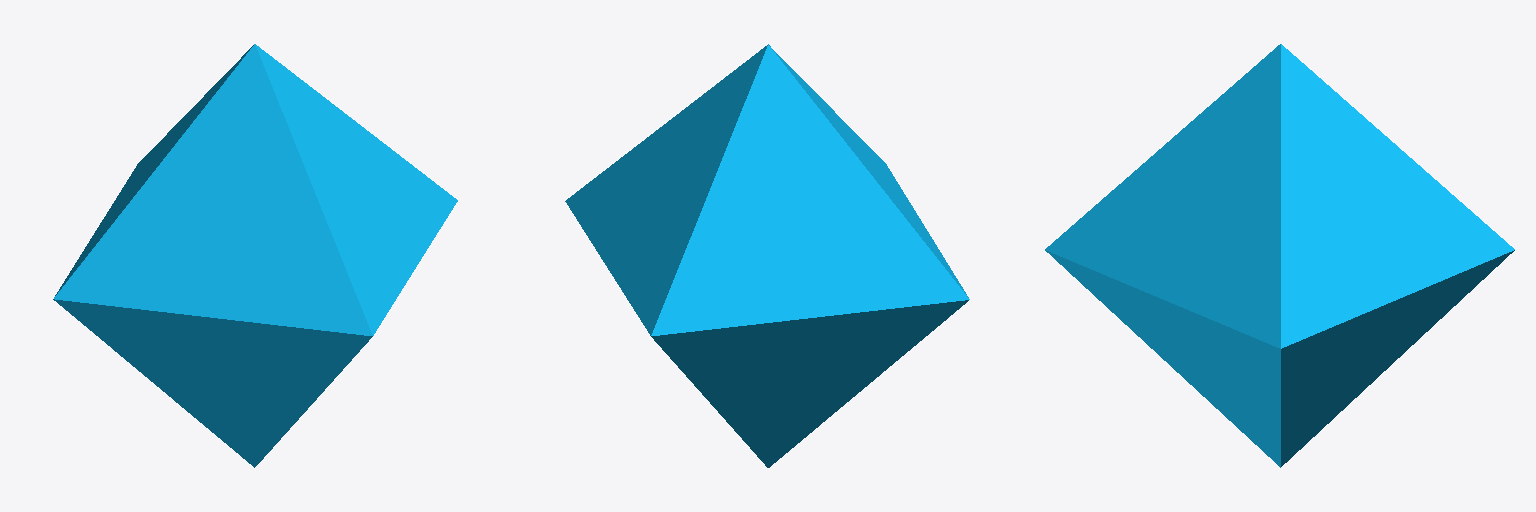
3 views of the same model, side by side, from view 1: azimuth 30°, elevation 25°; view 2: azimuth 150°, elevation 25°; view 3: azimuth 270°, elevation 25° (orthographic).
Visible parts, largest first — view 1: 立方体; view 2: 立方体; view 3: 立方体.
Boxes of the visible parts, box(x1,y1,x2,y2) form: 立方体: box(53, 44, 457, 467); 立方体: box(565, 44, 969, 467); 立方体: box(1045, 44, 1514, 467).
Bounding box in the file's own units: 0.7962 × 0.797 × 0.8014.
Materials: 1 (1 with a texture image).